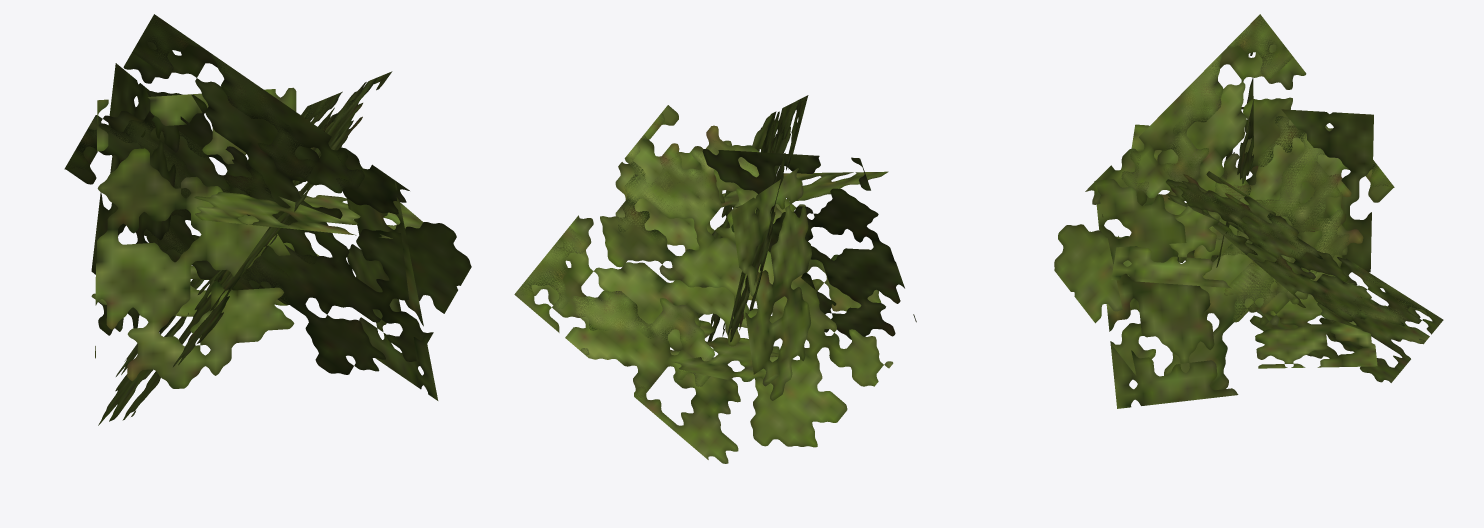
Rendered from oak_leaves_yellowish_vertical_slab.obj.
3 views of the same model, side by side, from view 1: azimuth 30°, elevation 25°; view 2: azimuth 150°, elevation 25°; view 3: azimuth 270°, elevation 25° (orthographic). The views are drawn at different scales.
Parts seen in each view (by area): view 1: cube; view 2: cube; view 3: cube.
Part boxes in pixels (<box>): cube: <box>64,14,471,425</box>; cube: <box>514,95,916,463</box>; cube: <box>1054,14,1443,408</box>.
Size of the model in its own units: 2.25 by 2.85 by 2.69.
